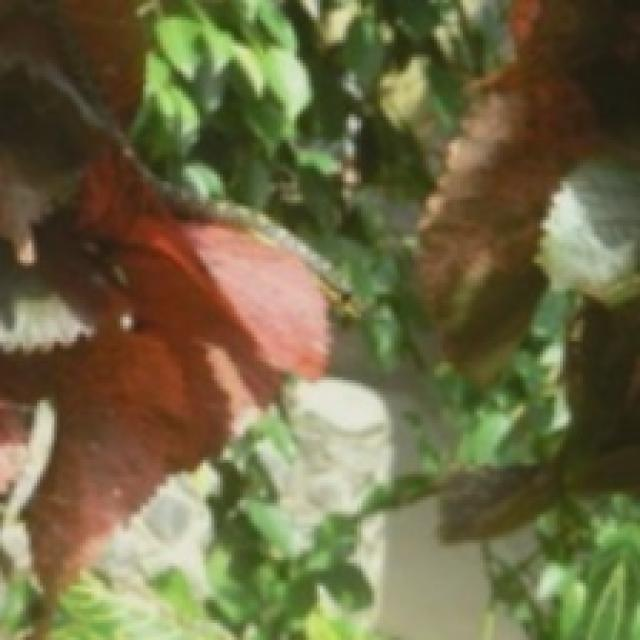paradise tree snake: (0, 0, 326, 637)
